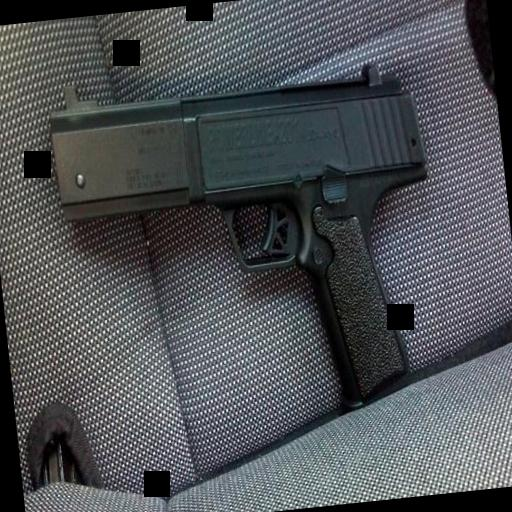Handgun: (46, 44, 450, 438)
